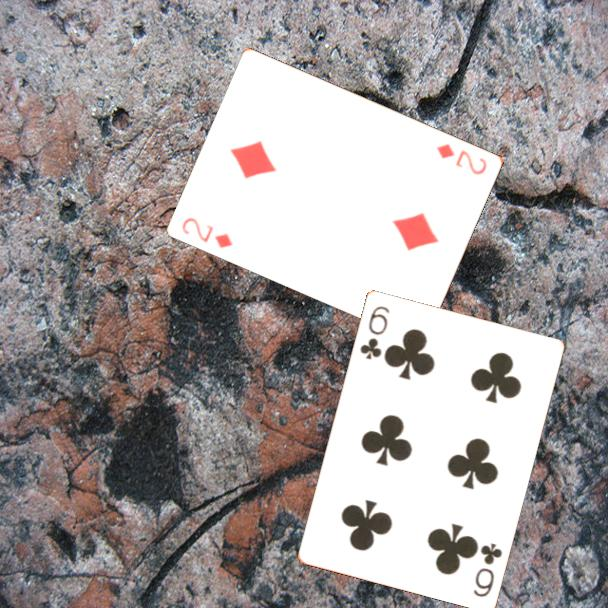c06: (356, 302, 392, 362), (470, 539, 505, 600)
d02: (433, 140, 490, 178), (179, 214, 236, 251)
